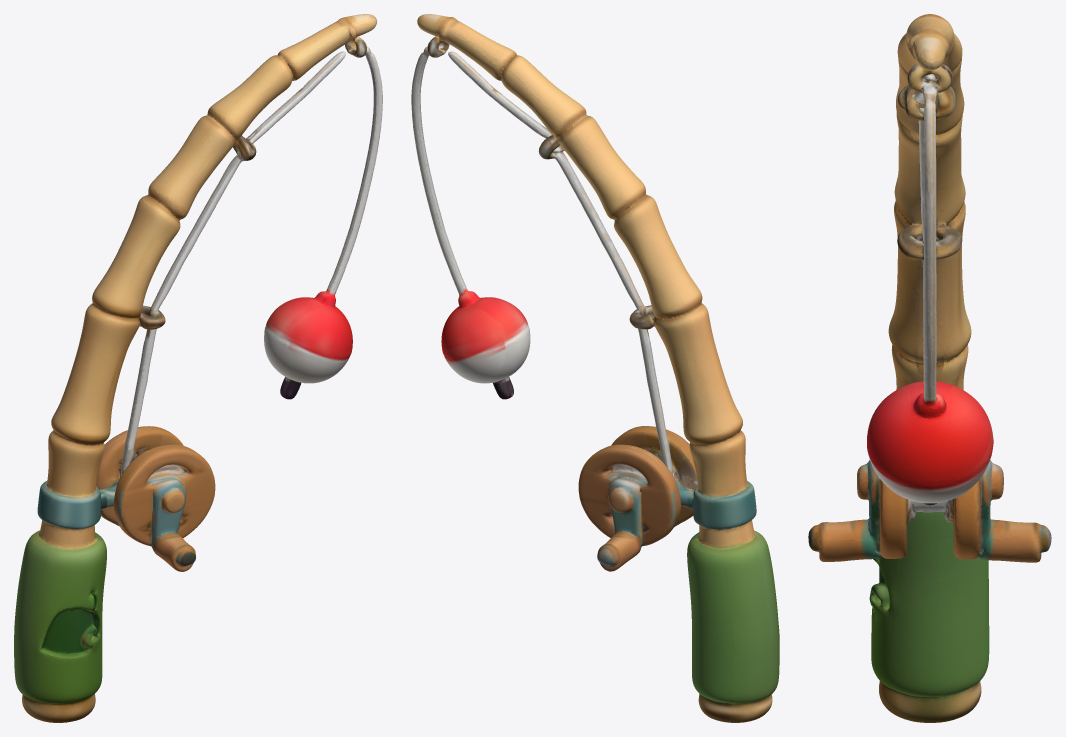
File: prp_rod_01.glb
The picture shows the model from 3 angles, left to right: view 1: azimuth 30°, elevation 25°; view 2: azimuth 150°, elevation 25°; view 3: azimuth 270°, elevation 25°; orthographic projection. The views are drawn at different scales.
Parts seen in each view (by area): view 1: geometry_0; view 2: geometry_0; view 3: geometry_0.
Boxes of the visible parts, left/top/right/bottom form: geometry_0: left=14, top=14, right=382, bottom=722; geometry_0: left=411, top=14, right=779, bottom=722; geometry_0: left=808, top=14, right=1051, bottom=722.
Bounding box in the file's own units: 0.45 × 0.7402 × 0.1869.
Materials: 1 (1 with a texture image).
